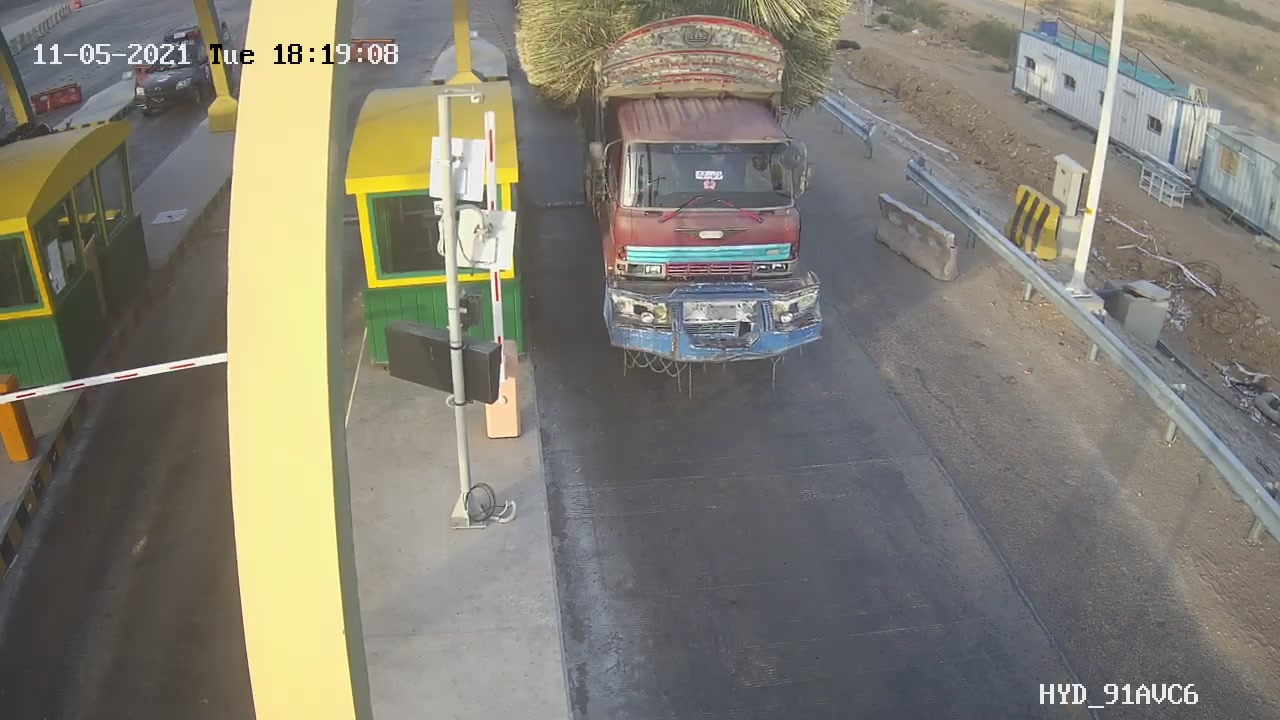F5: (538, 1, 856, 395)
